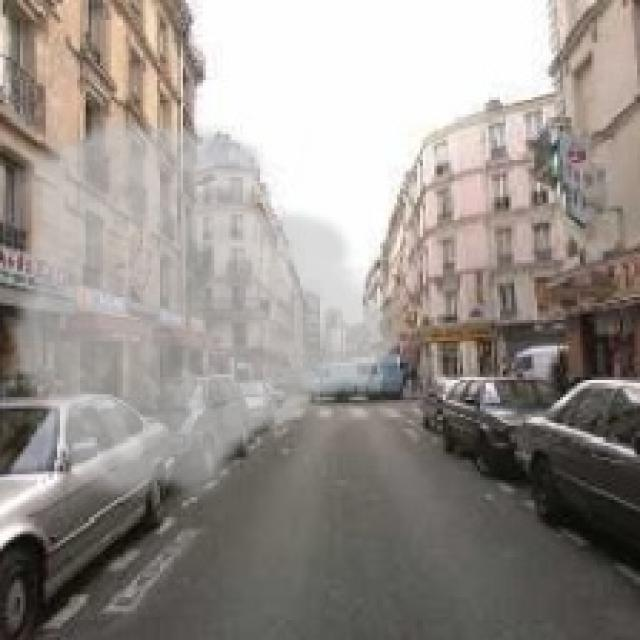Smoke: (2, 111, 408, 512)
